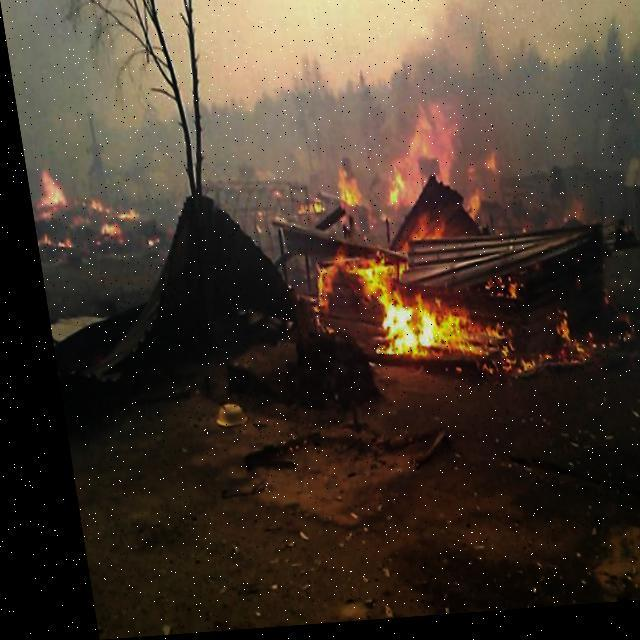Fire: (292, 141, 590, 382), (20, 150, 152, 264)
